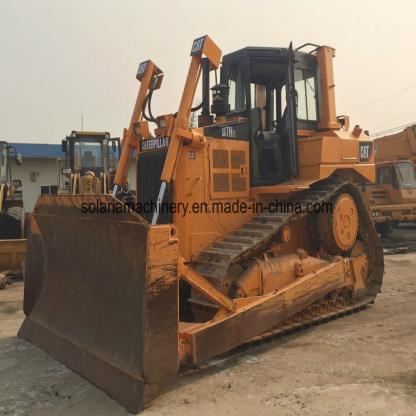bull_dozer/loader/grader: (19, 19, 396, 416)
